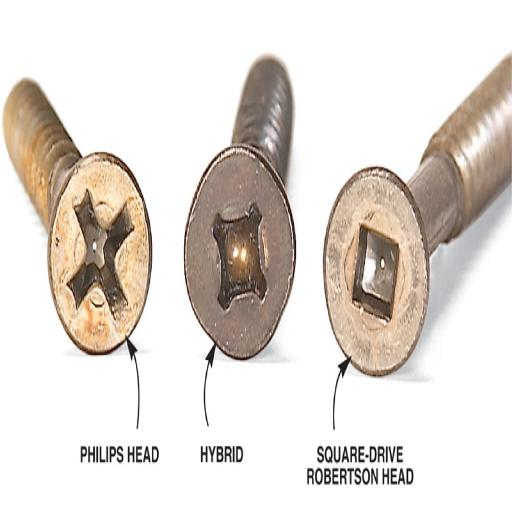Phillips: (182, 146, 294, 358), (49, 148, 151, 358)
